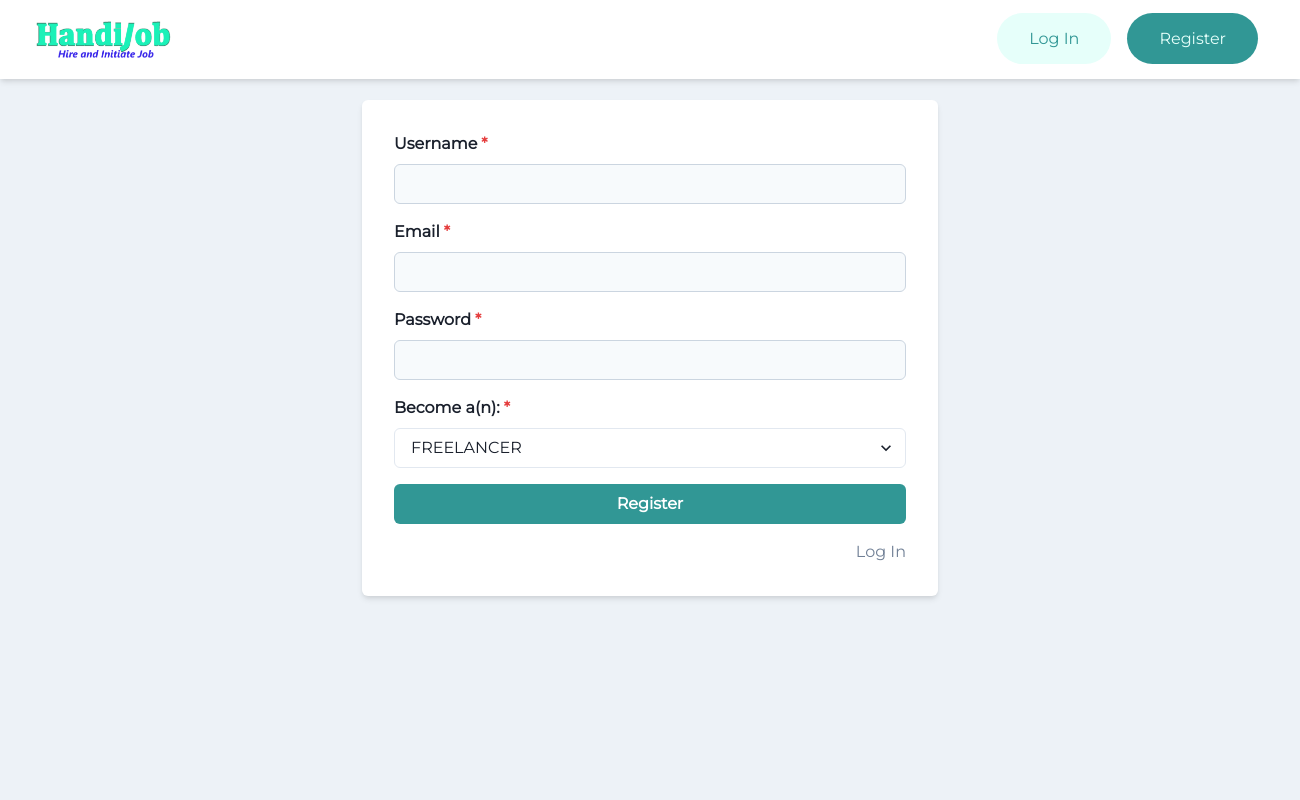
Test: Register Form › should show error if password is not at least 4 characters
In the password field labelled "Password*": point(650, 360) [394,340,906,380], type "tes"
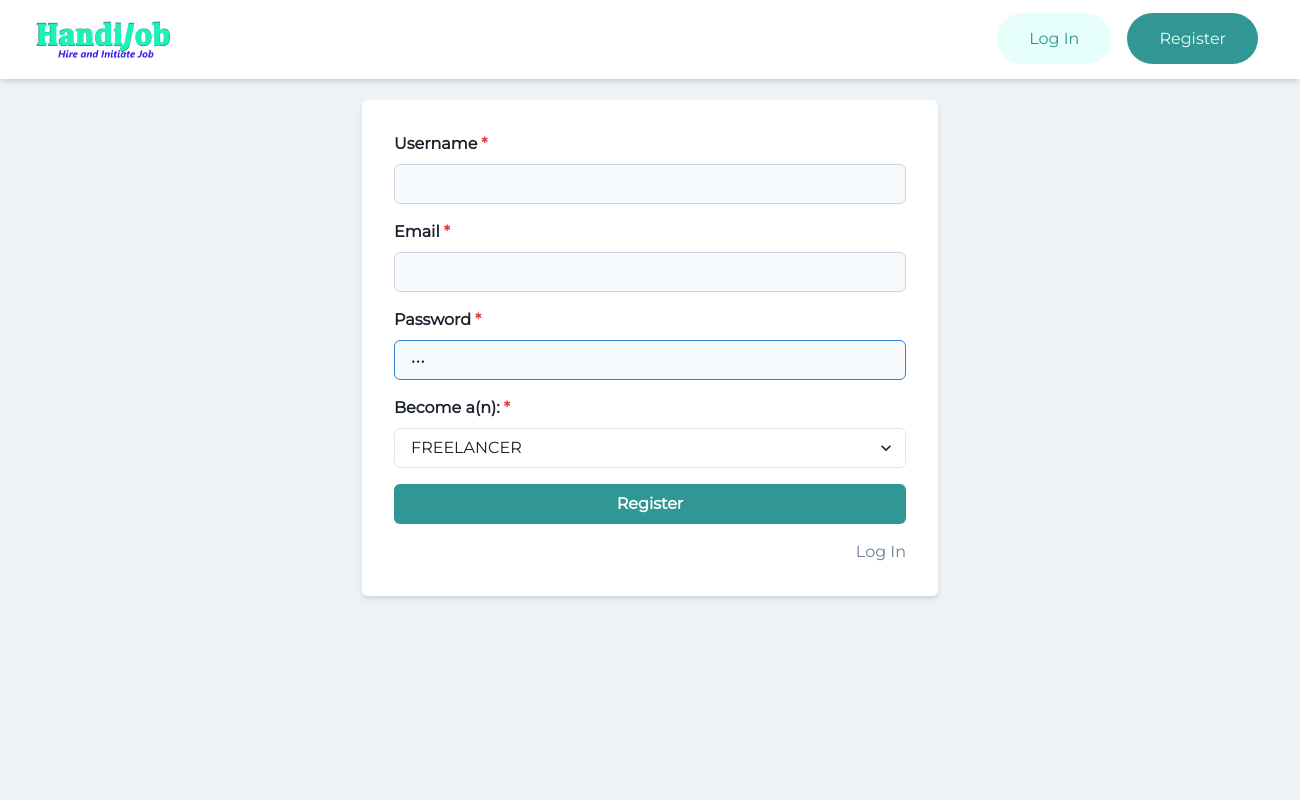
Leave the password field labelled "Password*", box [394,340,906,380]
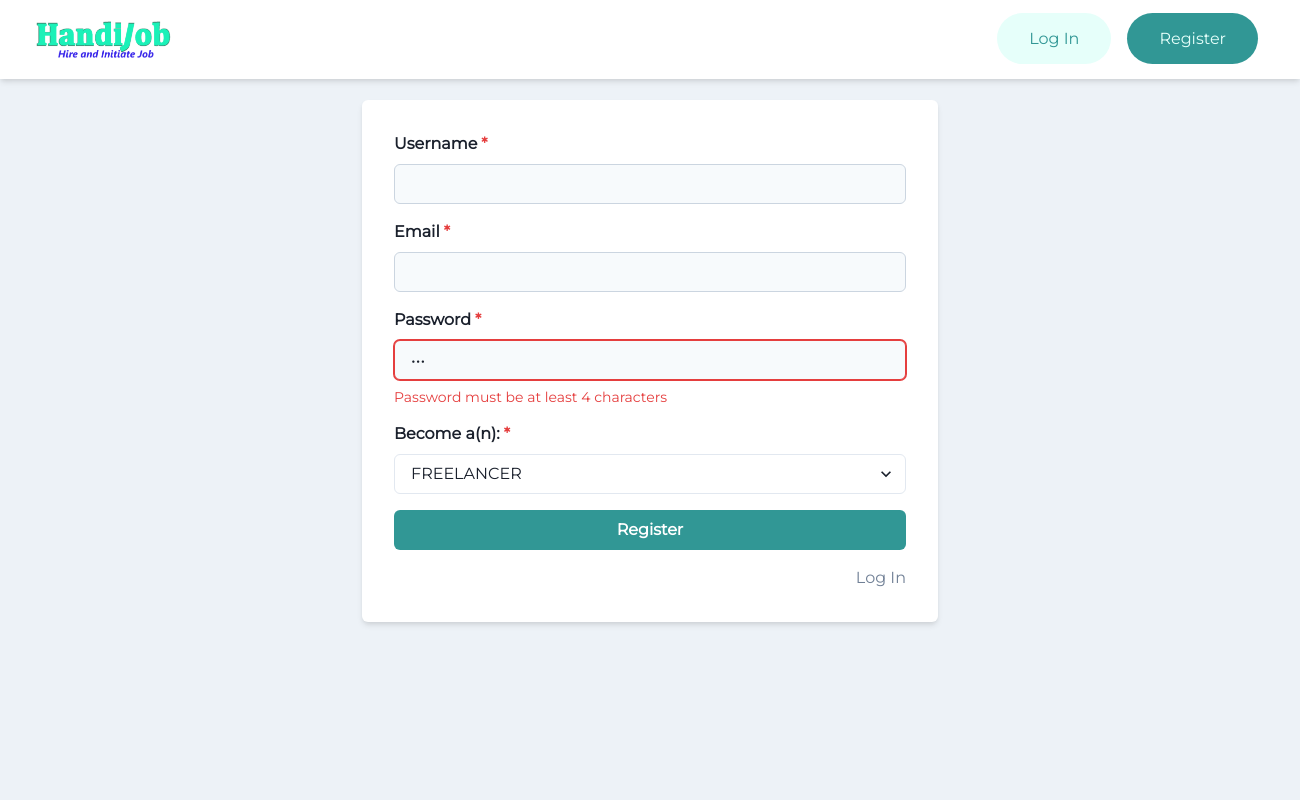
Now the text "Password must be at least 4 characters" is shown, box [394,388,667,406]
